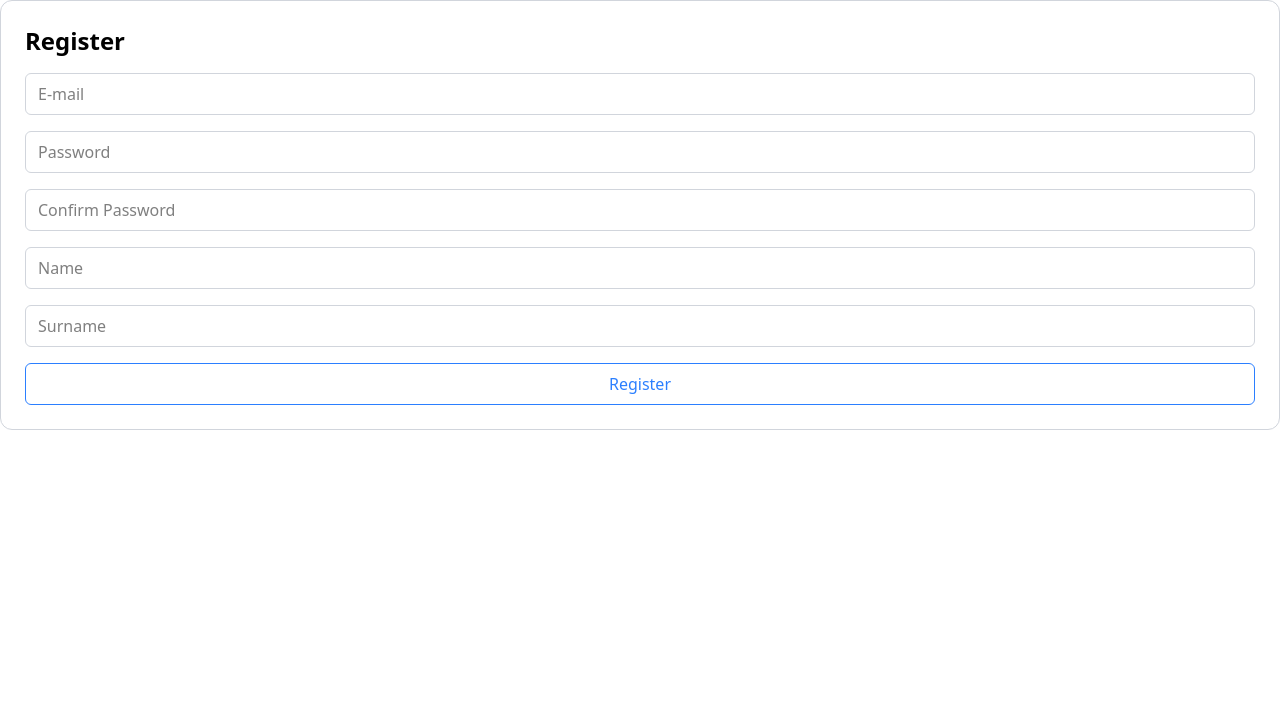
Test: Register Form › Validation › Password less than 6 characters
Type "111" into the password field labelled "Password".
click(640, 152); type("111")  # box [25,131,1255,173]
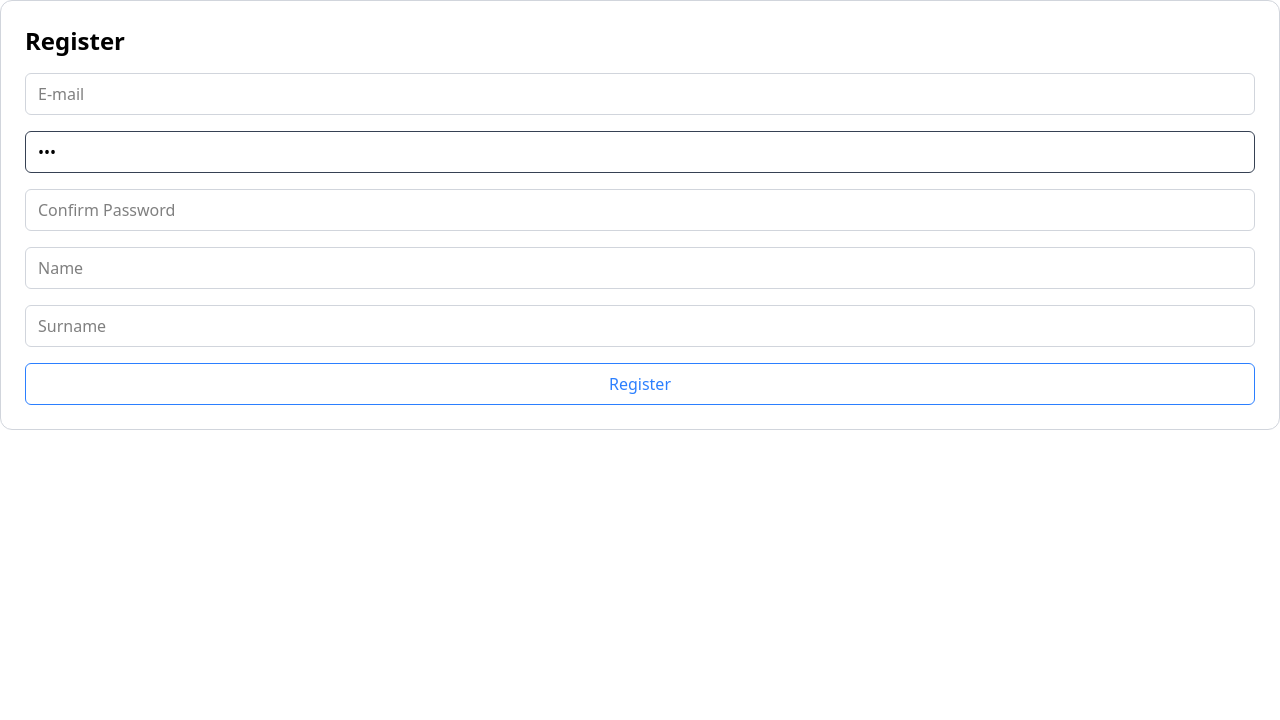
Click the button with aria-label "Register button".
click(640, 384)  # box [25,363,1255,405]
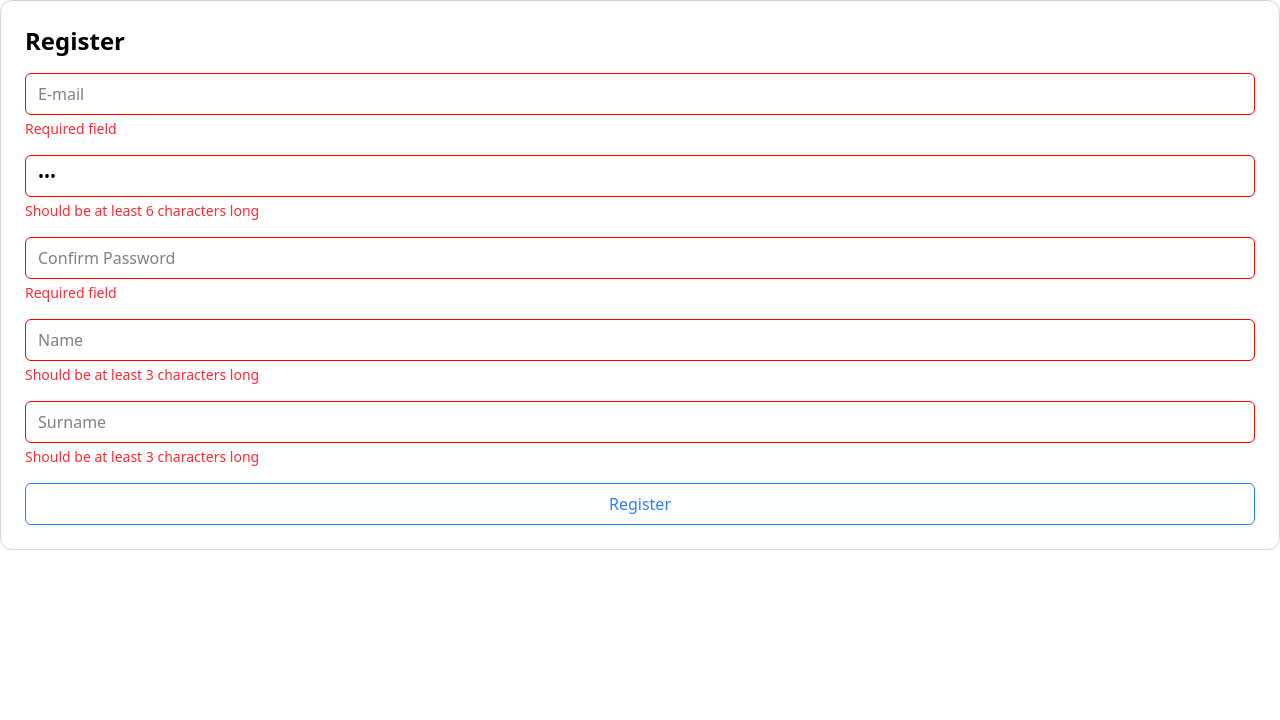
Expected: the text "Should be at least 6 characters long" is shown, [25,201,259,220]
